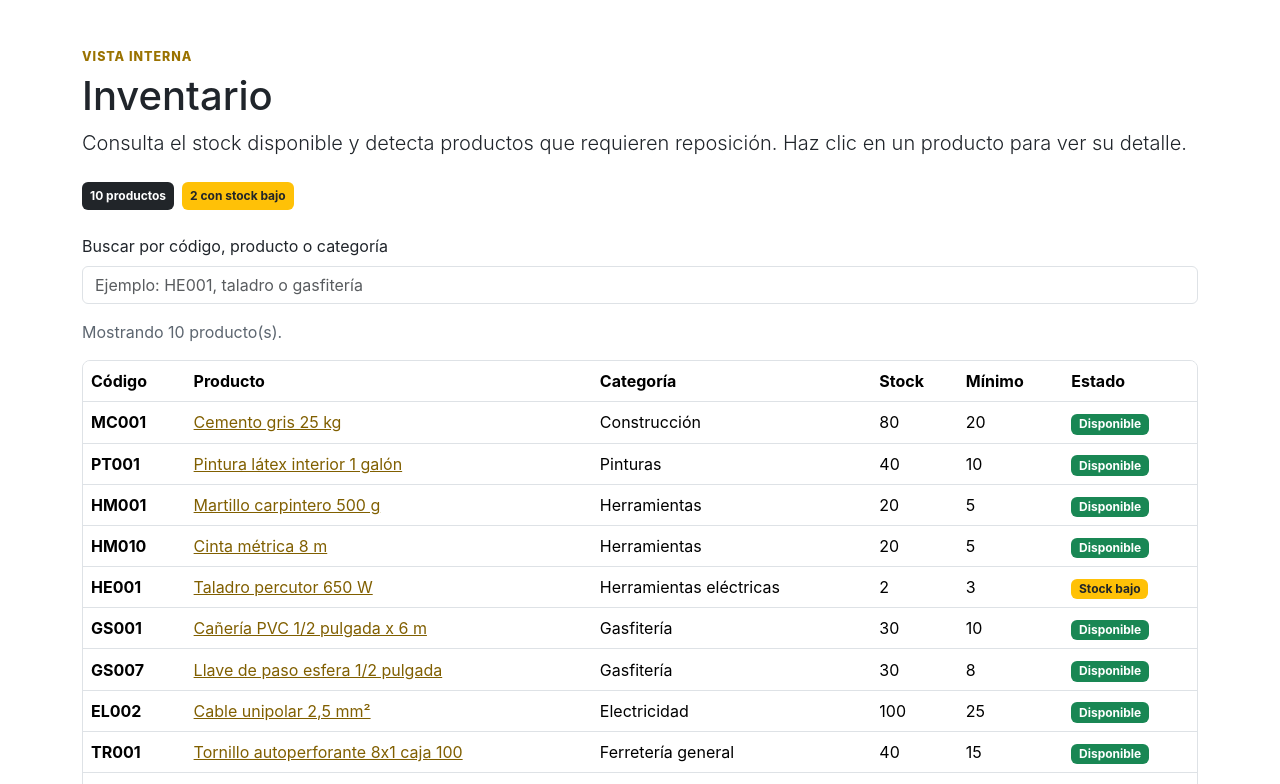
Scenario: Integrante 3 - Inventario › 24. identifica stock bajo y permite filtrar el inventario
In the search field labelled "Buscar por código, producto o categoría": (640, 285) [82, 266, 1198, 304], type "HE001"
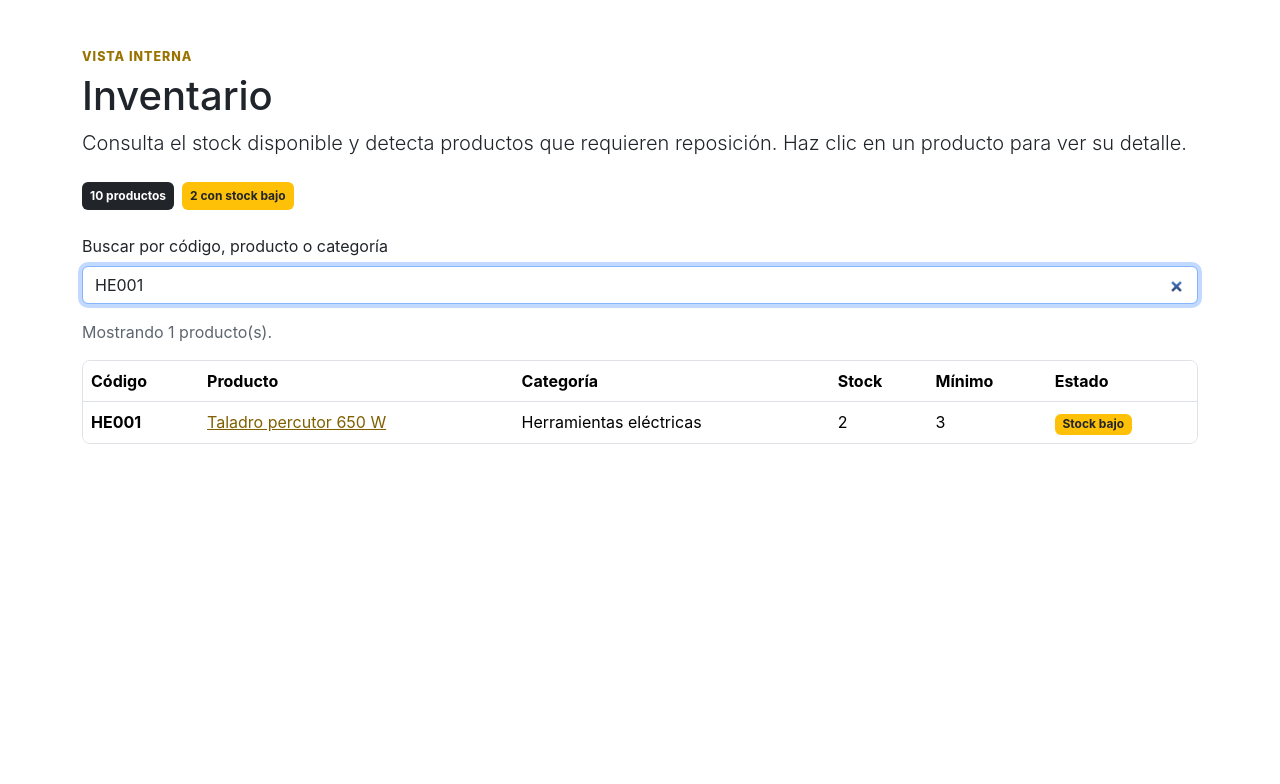
Expected: the message reads "Mostrando 1 producto(s).", [82, 322, 272, 342]
